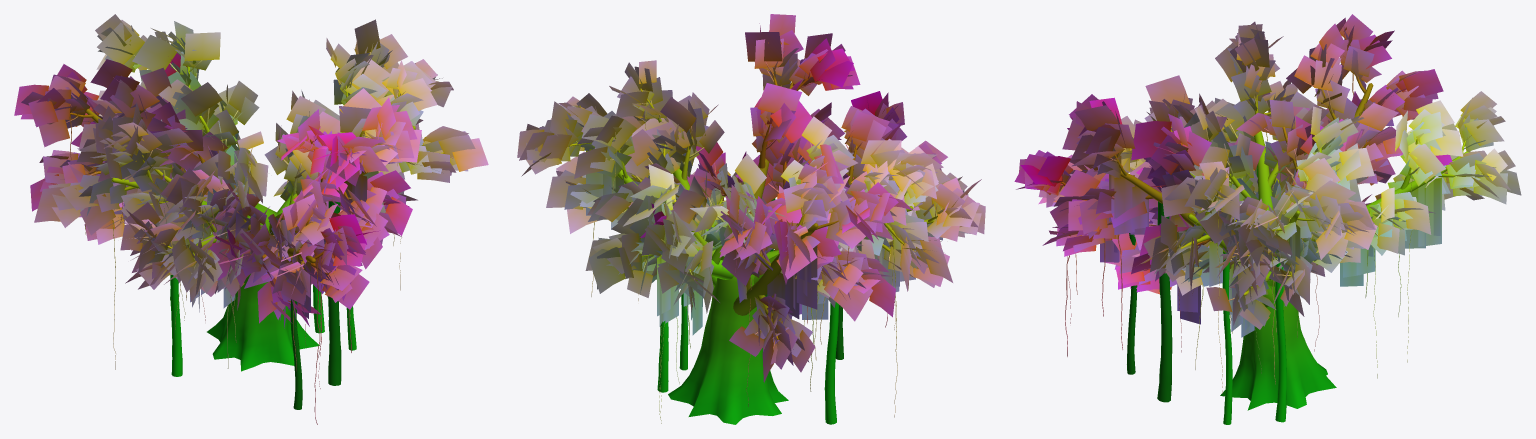
The model's file is banyan.glb.
3 renders of one model, left to right at view 1: azimuth 30°, elevation 25°; view 2: azimuth 150°, elevation 25°; view 3: azimuth 270°, elevation 25°, orthographic. The views are drawn at different scales.
Visible parts, largest first — view 1: banyan_leaves, banyan_bark, banyan_rootfringe; view 2: banyan_leaves, banyan_bark, banyan_rootfringe; view 3: banyan_leaves, banyan_bark, banyan_rootfringe.
Part boxes in pixels (<box>): banyan_leaves: <box>14,14,488,326</box>; banyan_bark: <box>54,44,454,424</box>; banyan_rootfringe: <box>123,171,378,328</box>; banyan_leaves: <box>517,14,985,382</box>; banyan_bark: <box>567,44,948,424</box>; banyan_rootfringe: <box>586,149,915,335</box>; banyan_leaves: <box>1014,14,1521,329</box>; banyan_bark: <box>1060,45,1484,424</box>; banyan_rootfringe: <box>1100,108,1441,337</box>.
Size of what is drawn, in the model's own units: 15.84 by 11.4 by 17.02.
